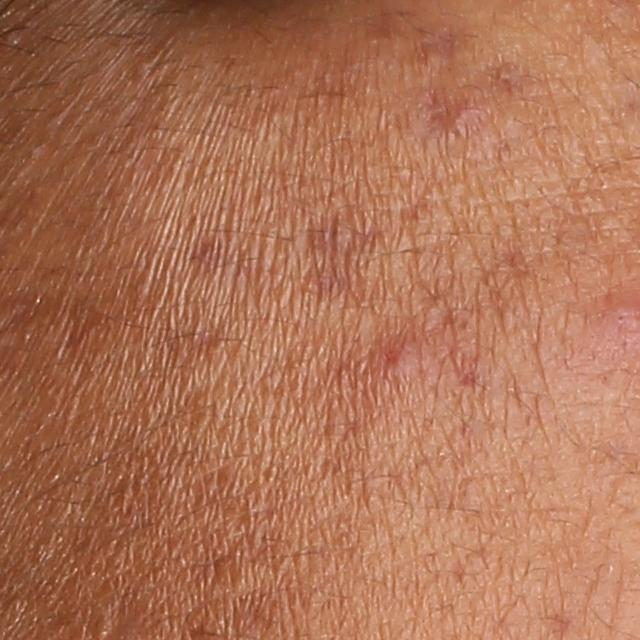comedo: (89, 615, 117, 638)
papule: (373, 334, 422, 381)
